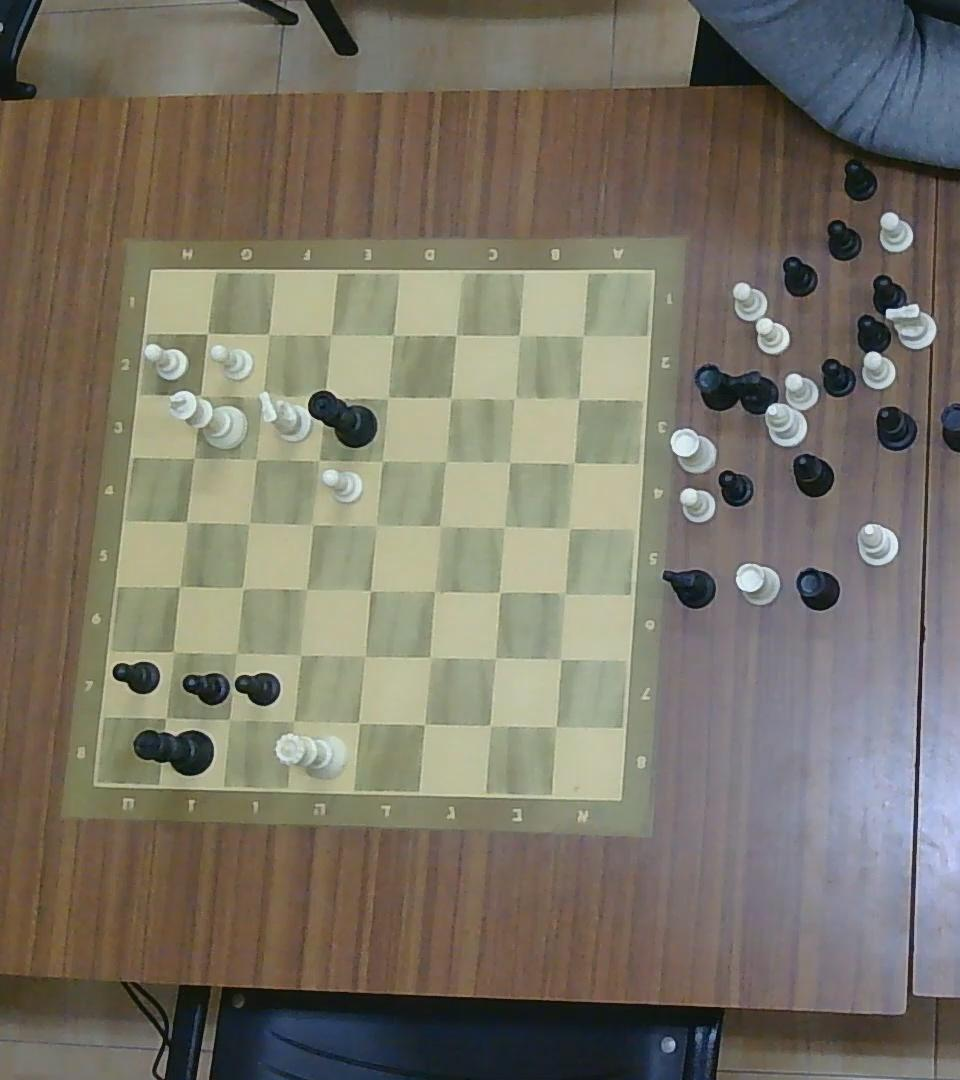xcorner: (477, 712, 503, 738), (543, 714, 569, 739), (246, 383, 271, 409), (412, 711, 437, 736), (418, 645, 442, 670), (347, 710, 371, 734), (482, 646, 506, 669), (353, 644, 376, 668), (281, 709, 305, 731), (154, 706, 178, 728), (288, 643, 311, 665), (319, 324, 341, 346), (439, 387, 461, 408), (218, 708, 240, 729), (372, 449, 392, 471), (549, 648, 571, 668), (188, 386, 210, 406), (225, 642, 245, 663), (423, 581, 443, 602), (296, 577, 315, 599), (183, 447, 203, 467), (429, 516, 449, 536), (366, 514, 386, 534), (445, 325, 465, 345), (247, 448, 266, 469), (499, 450, 518, 471), (170, 576, 189, 597), (378, 388, 397, 408), (435, 450, 454, 470), (489, 582, 508, 602), (198, 322, 217, 342), (177, 511, 196, 531), (555, 582, 574, 602), (259, 324, 278, 344), (560, 518, 579, 538), (315, 386, 334, 406), (384, 326, 403, 345), (303, 514, 321, 534), (495, 516, 513, 536), (309, 450, 327, 470), (505, 388, 523, 407), (240, 513, 258, 532), (361, 581, 380, 599), (165, 643, 183, 662), (564, 453, 583, 471), (233, 579, 251, 598), (573, 326, 591, 345), (511, 327, 528, 344), (572, 390, 588, 405)
